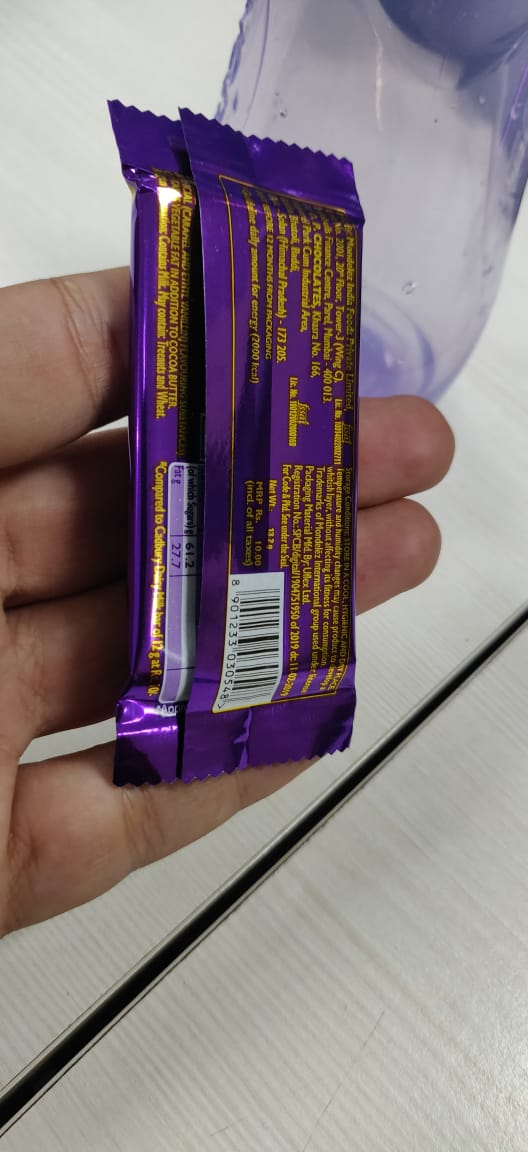dairy milk: (94, 86, 366, 781)
